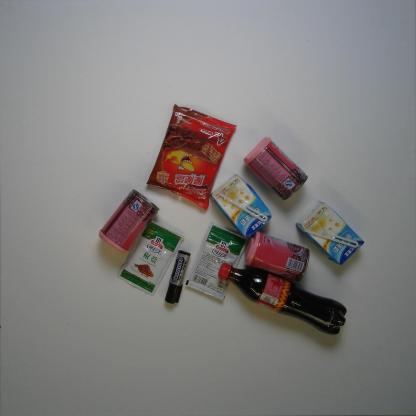Canned Food: (241, 132, 309, 202), (98, 186, 161, 256), (241, 226, 312, 284)
Dessert: (144, 103, 238, 211)
Drink: (215, 260, 348, 336)
Milk: (294, 198, 366, 268), (206, 172, 272, 239)
Seasoner: (116, 218, 186, 298), (185, 220, 248, 302)
Stationery: (164, 247, 193, 305)
